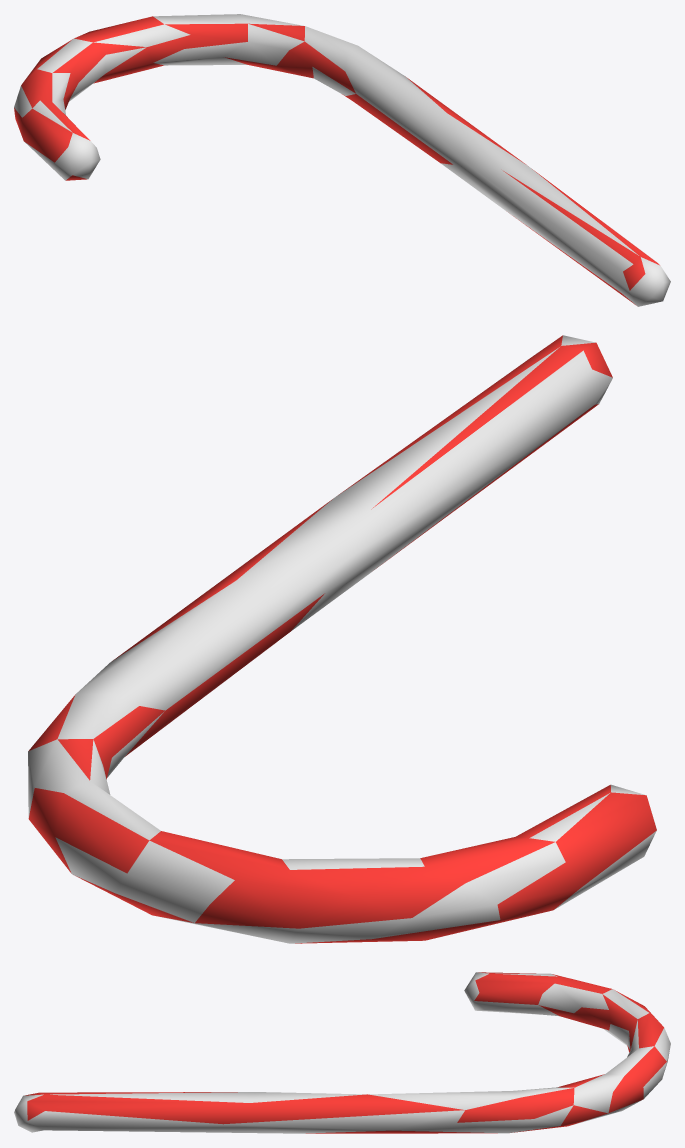
Rendered from NewCandyCane.fbx.
The picture shows the model from 3 angles, top to bottom: view 1: azimuth 30°, elevation 25°; view 2: azimuth 150°, elevation 25°; view 3: azimuth 270°, elevation 25°; orthographic projection. The views are drawn at different scales.
Visible parts, largest first — view 1: CandyCane.001; view 2: CandyCane.001; view 3: CandyCane.001.
Boxes of the visible parts, bbox=[...] form: CandyCane.001: bbox=[14, 14, 670, 306]; CandyCane.001: bbox=[28, 335, 656, 943]; CandyCane.001: bbox=[14, 972, 670, 1133].
Bounding box in the file's own units: 146 × 18.71 × 293.
